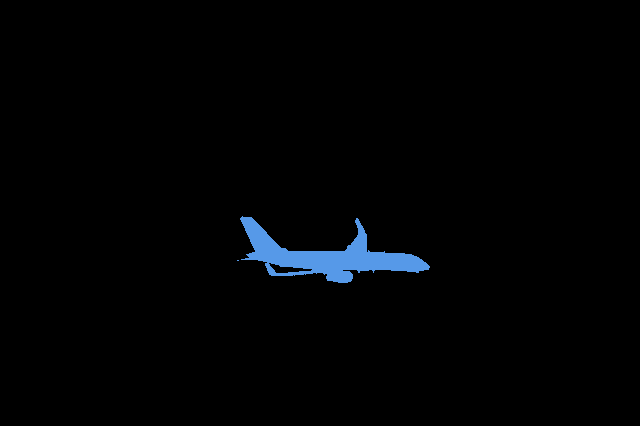Airplane: (237, 216, 429, 283)
